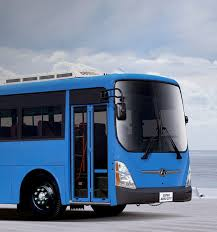out: (62, 72, 196, 217)
